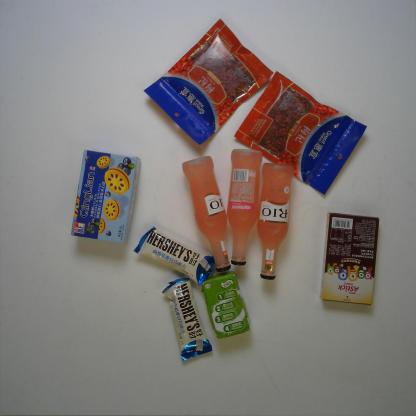Alcohol: (181, 155, 234, 274), (225, 145, 264, 269), (256, 162, 296, 282)
Chocolate: (132, 224, 220, 286), (159, 274, 216, 366)
Dessert: (68, 146, 142, 249), (318, 210, 385, 308)
Dried Fruit: (233, 65, 371, 197), (142, 16, 276, 147)
Milk: (201, 270, 253, 342)
